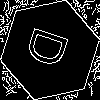D: (25, 24, 78, 73)
